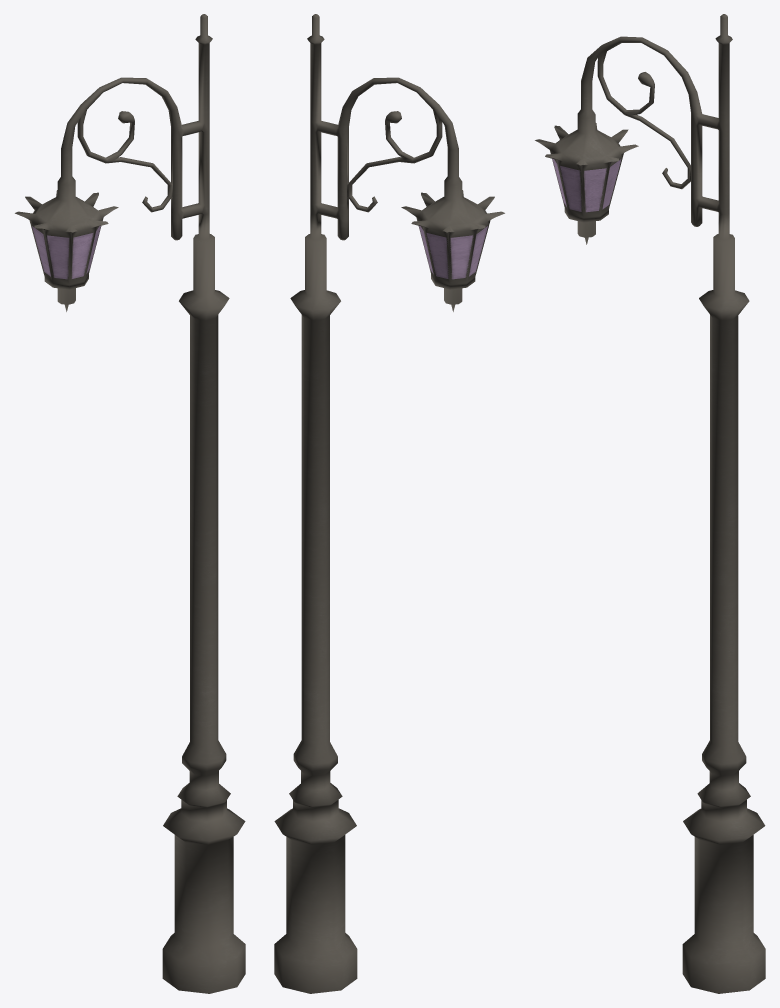
The model's file is poste.obj.
The picture shows the model from 3 angles, left to right: view 1: azimuth 30°, elevation 25°; view 2: azimuth 150°, elevation 25°; view 3: azimuth 330°, elevation 25°; orthographic projection.
Visible parts, largest first — view 1: LampPost_LPoly; view 2: LampPost_LPoly; view 3: LampPost_LPoly.
Boxes of the visible parts, left/top/right/bottom form: LampPost_LPoly: left=15, top=14, right=245, bottom=993; LampPost_LPoly: left=274, top=14, right=504, bottom=993; LampPost_LPoly: left=535, top=14, right=765, bottom=993.
Size of the model in its own units: 1.09 by 4.69 by 0.4307.
1 material, 1 textured.
